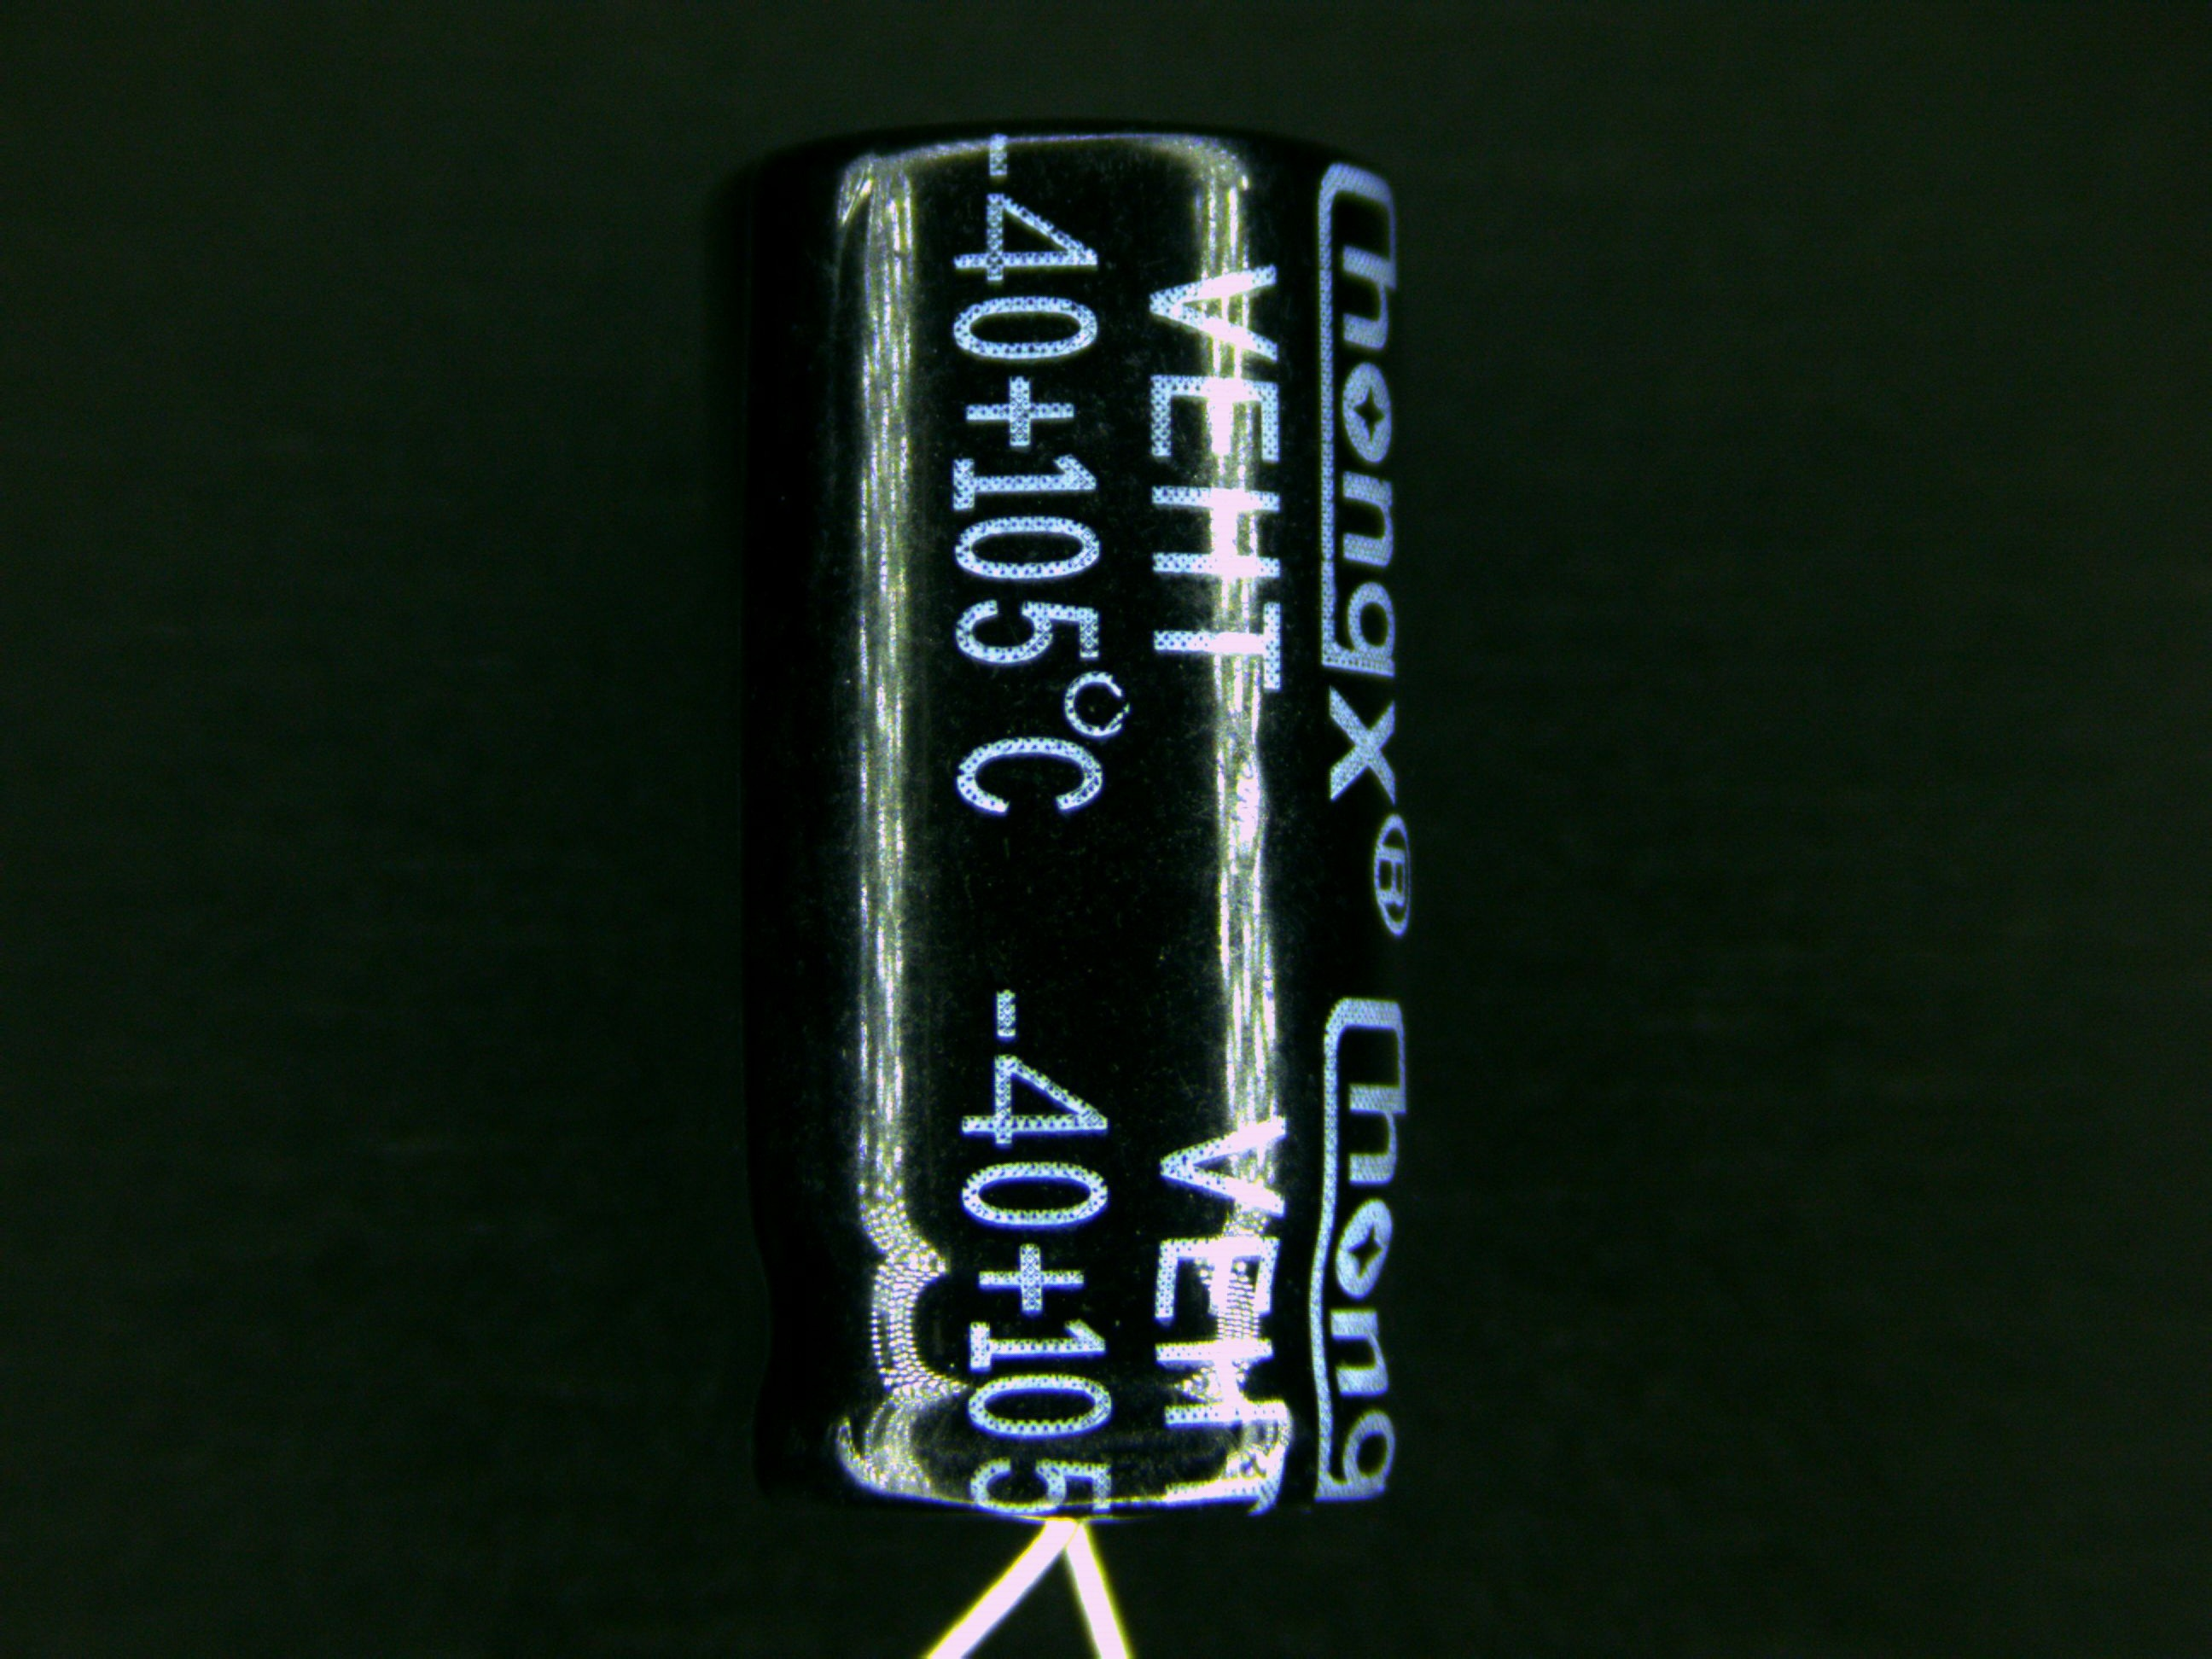c3: (712, 117, 1433, 1596)
